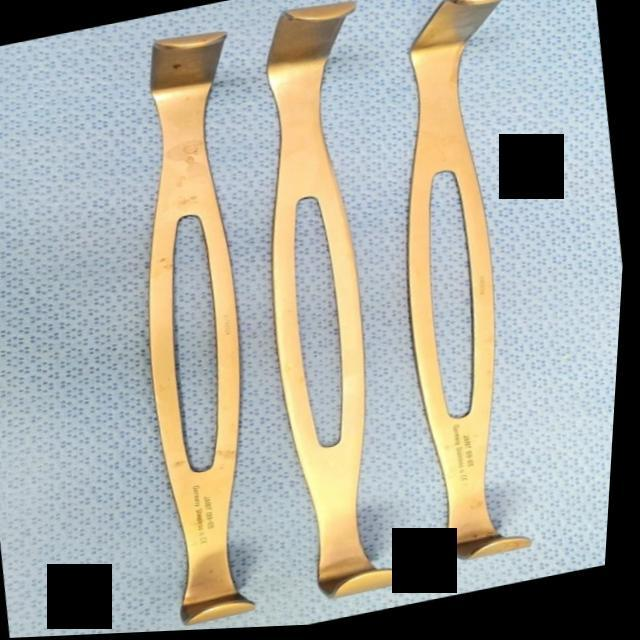Army Navy Retractor: (348, 0, 618, 579), (80, 19, 328, 636), (217, 0, 457, 614)
